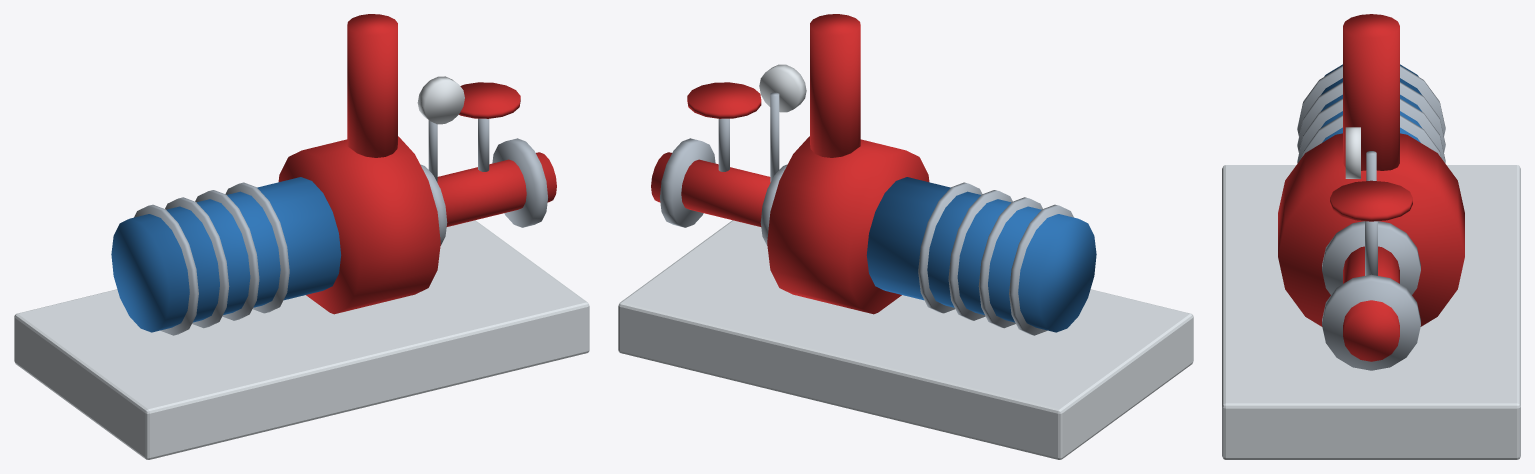
Rendered from fire-pump.glb.
3 views of the same model, side by side, from view 1: azimuth 30°, elevation 25°; view 2: azimuth 150°, elevation 25°; view 3: azimuth 270°, elevation 25° (orthographic). The views are drawn at different scales.
Parts seen in each view (by area): view 1: Pump plinth, Pump volute, Electric motor, Cooling fin; view 2: Pump plinth, Pump volute, Electric motor, Cooling fin; view 3: Pump plinth, Pump volute, Cooling fin, Electric motor.
Boxes of the visible parts, left/top/right/bottom form: Pump plinth: left=14, top=76, right=589, bottom=459; Pump volute: left=278, top=14, right=556, bottom=314; Electric motor: left=111, top=177, right=341, bottom=332; Cooling fin: left=134, top=118, right=547, bottom=335; Pump plinth: left=618, top=64, right=1193, bottom=459; Pump volute: left=651, top=14, right=929, bottom=314; Electric motor: left=866, top=177, right=1096, bottom=332; Cooling fin: left=660, top=92, right=1073, bottom=335; Pump plinth: left=1222, top=127, right=1520, bottom=459; Pump volute: left=1278, top=14, right=1464, bottom=361; Cooling fin: left=1297, top=65, right=1445, bottom=370; Electric motor: left=1320, top=64, right=1422, bottom=142.
Bounding box in the file's own units: 2.3 × 1.5 × 1.15.
